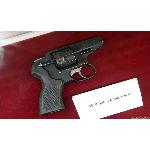Pistol: (24, 35, 118, 118)
